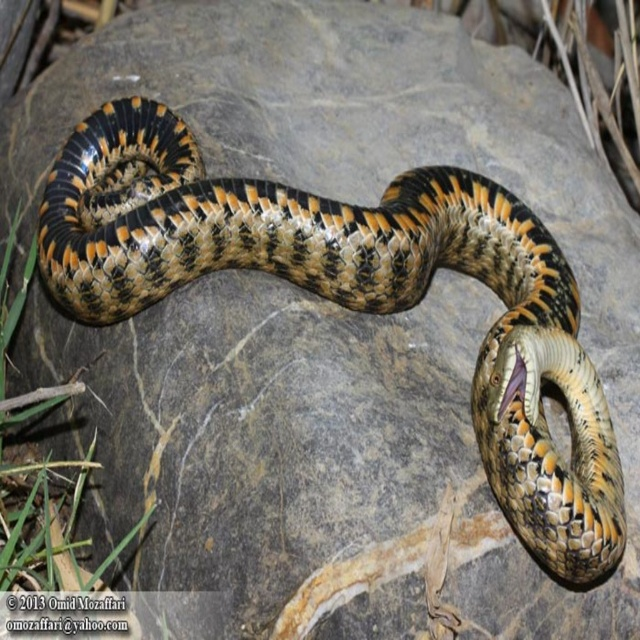Snake: (34, 90, 628, 595)
